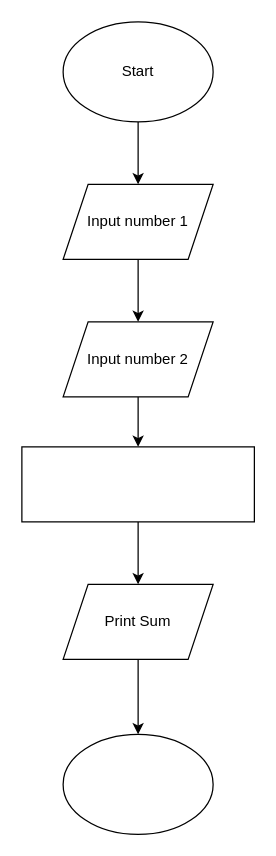
Some shapes in this 276 by 856 pixel diagram are drawn without their labels. The shapes that lost their labels are listed below. From the top down, each one's box as (x1, y1, x2, y2) in pixels, then its label:
(21, 446, 254, 522): sum = number 1 + number 2
(62, 733, 213, 834): End
